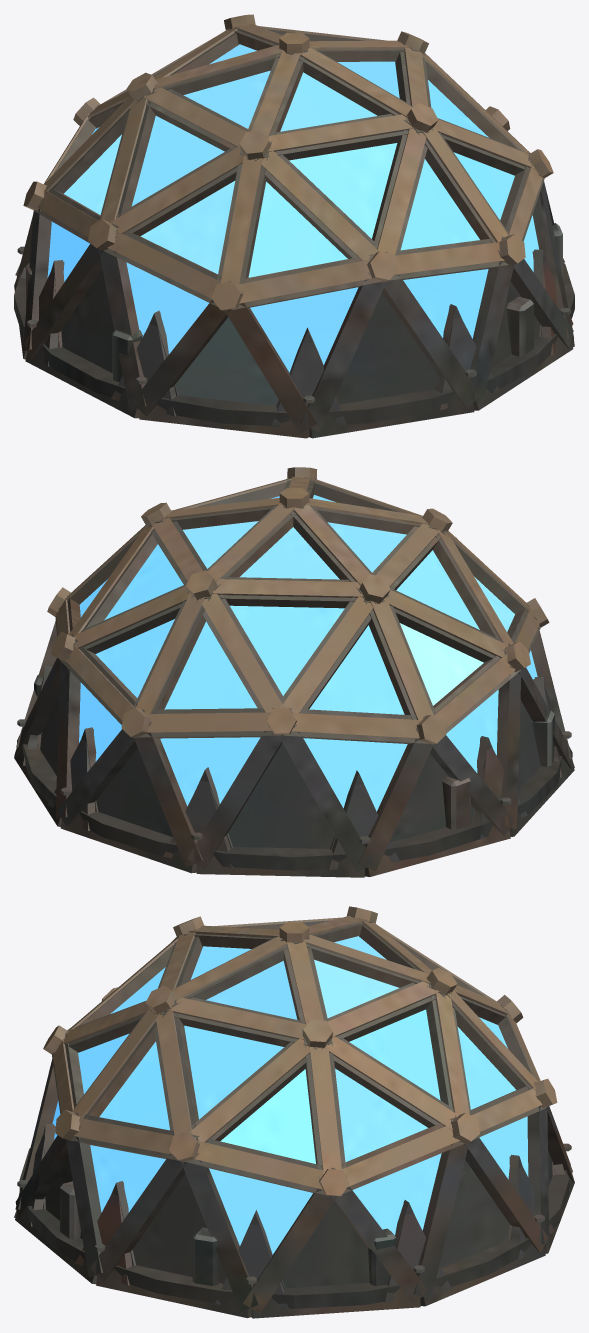
The model's file is lab.glb.
3 views of the same model, one above another, from view 1: azimuth 30°, elevation 25°; view 2: azimuth 150°, elevation 25°; view 3: azimuth 270°, elevation 25° (orthographic). The views are drawn at different scales.
Visible parts, largest first — view 1: body, anim_glow_lab; view 2: body, anim_glow_lab; view 3: body, anim_glow_lab.
Part boxes in pixels (left/top/right/bottom): body: left=14, top=14, right=574, bottom=438; anim_glow_lab: left=47, top=44, right=539, bottom=372; body: left=14, top=467, right=574, bottom=877; anim_glow_lab: left=79, top=495, right=537, bottom=811; body: left=14, top=906, right=574, bottom=1318; anim_glow_lab: left=52, top=936, right=528, bottom=1254.
Size of the model in its own units: 3 by 1.63 by 3.
Materials: 2 (2 with a texture image).
